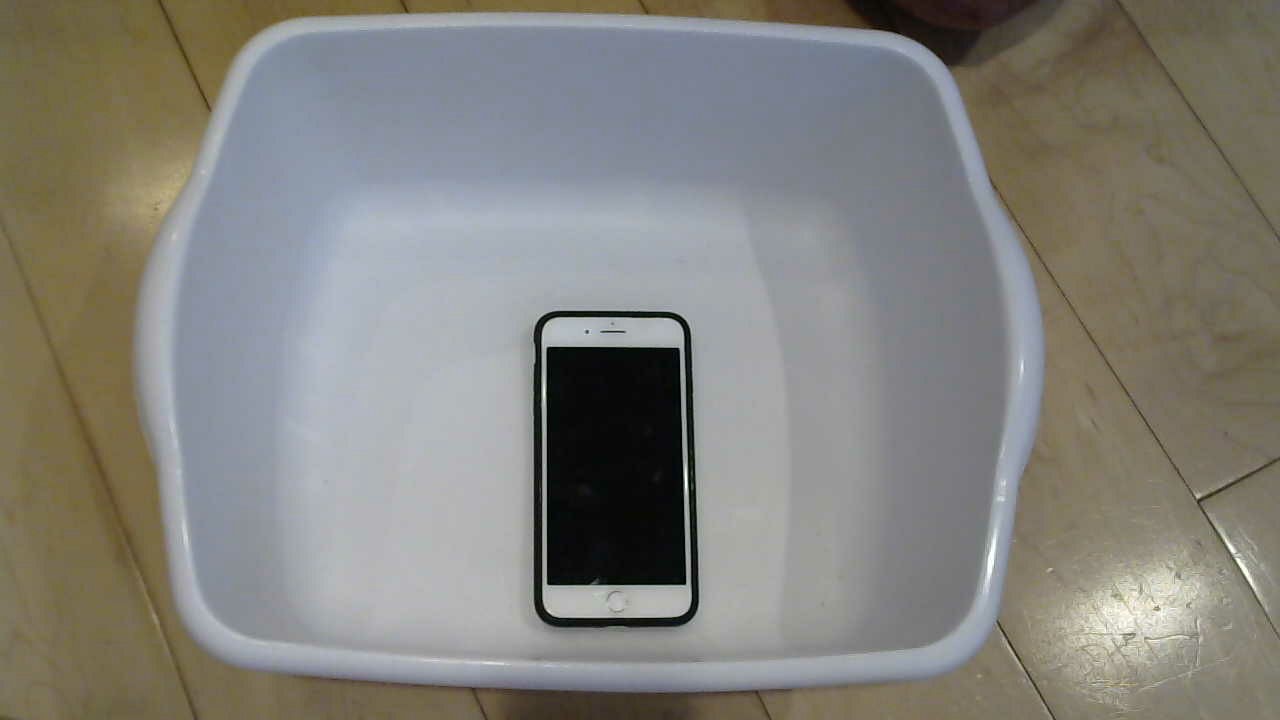phone: (510, 305, 717, 638)
